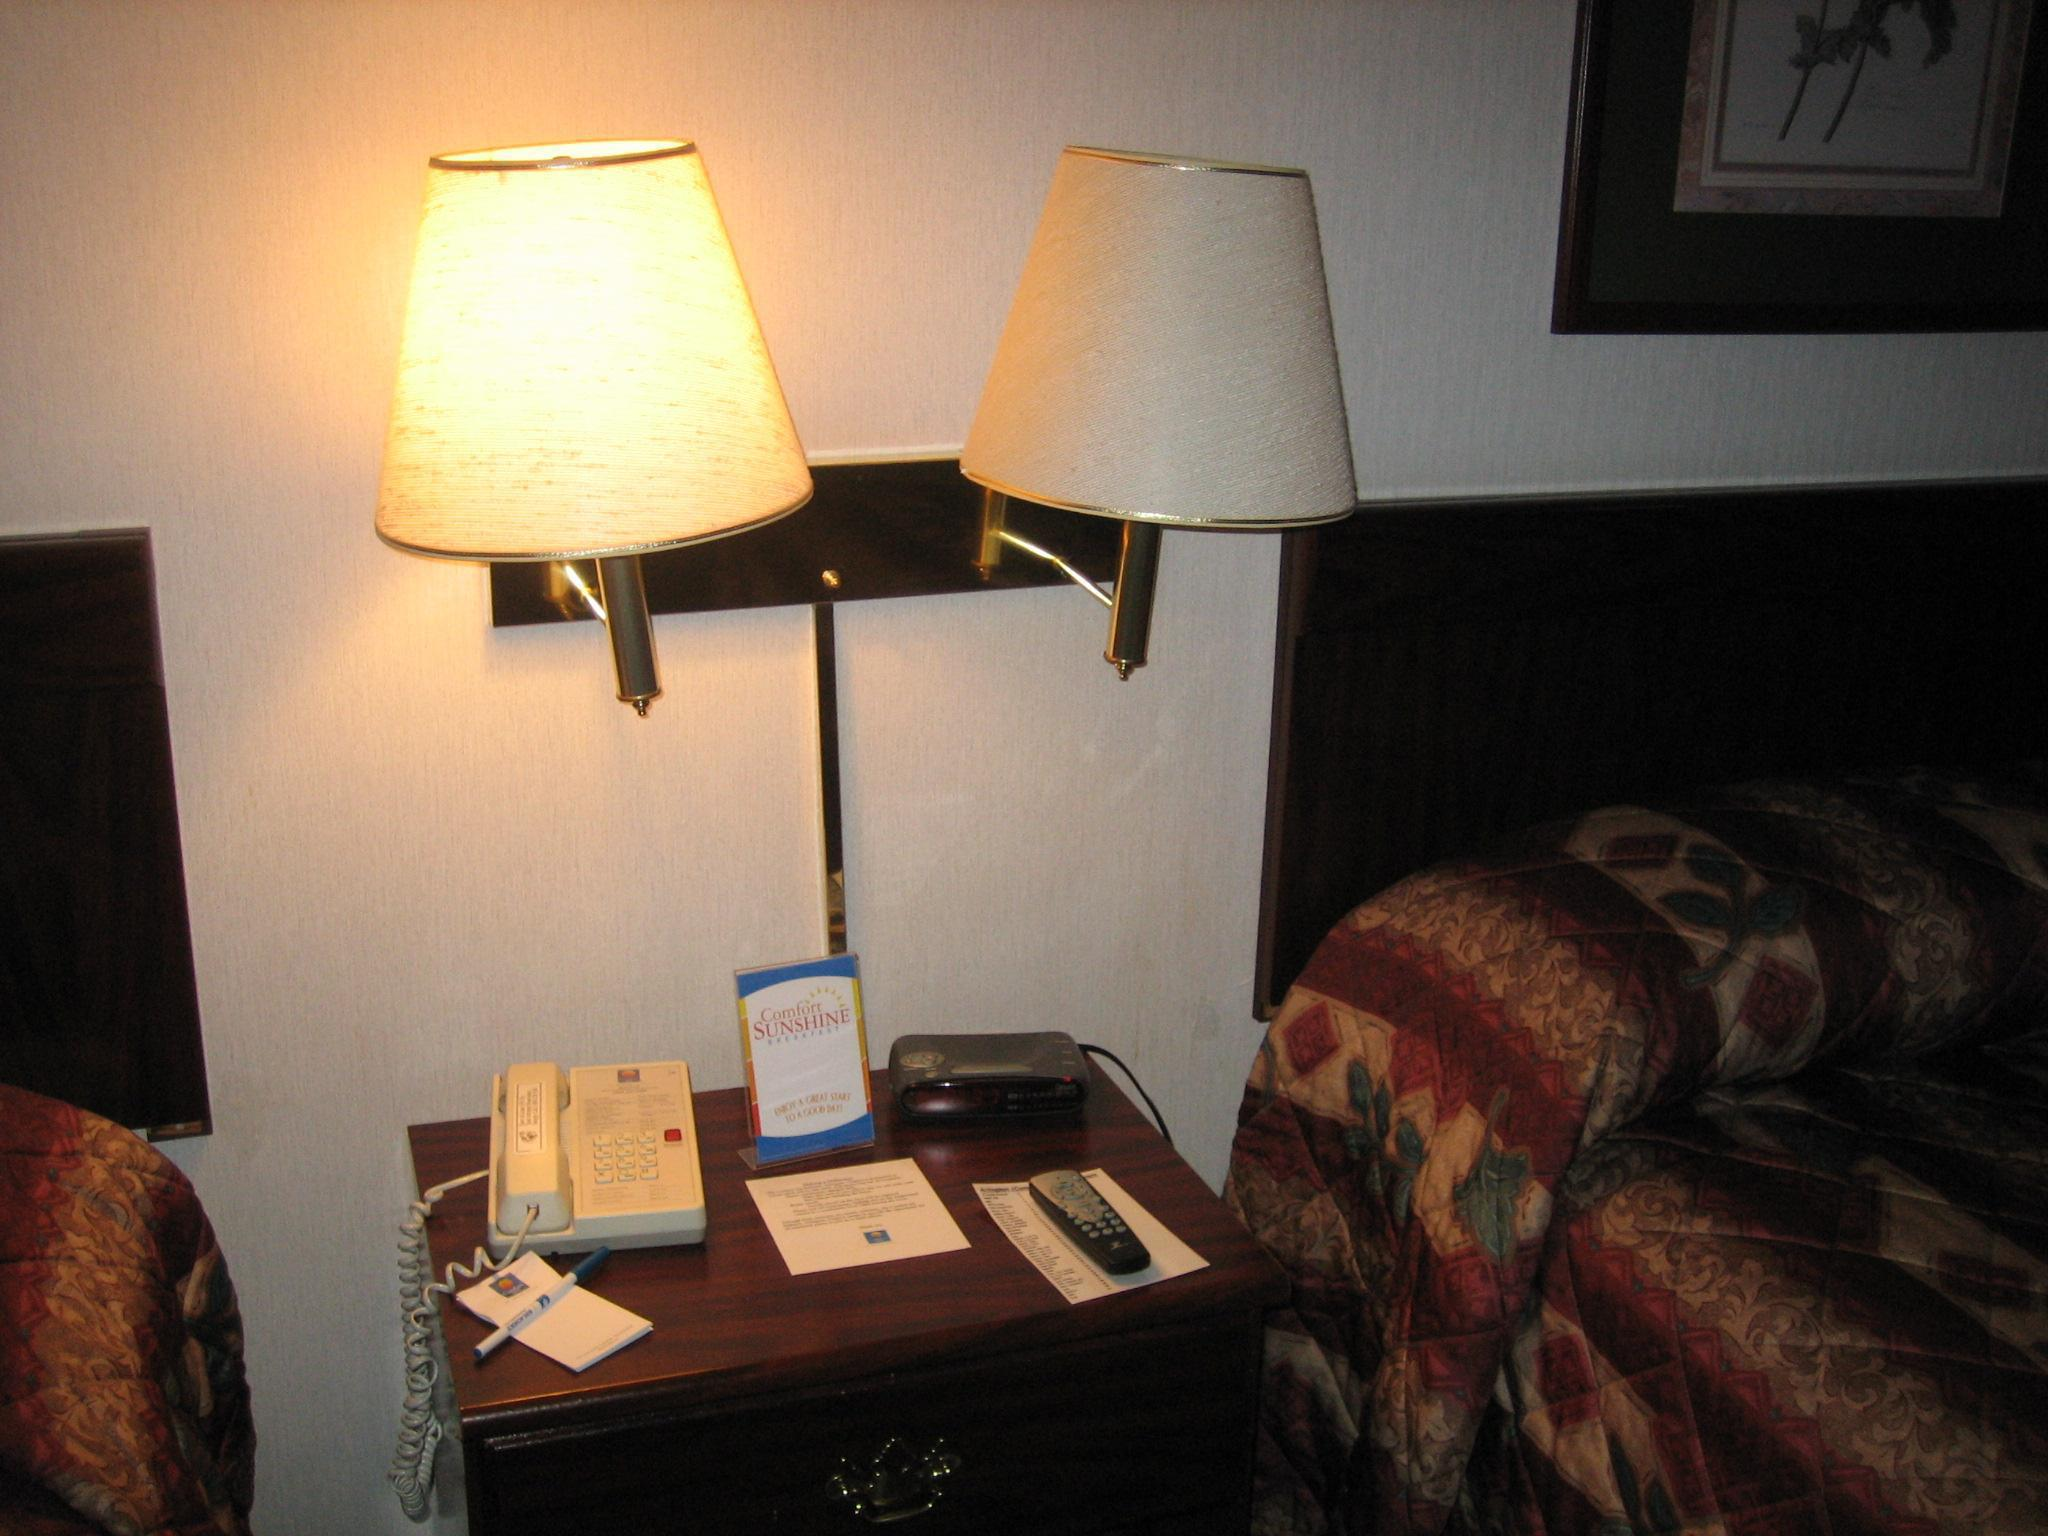Cama: (1297, 520, 2038, 1520), (15, 524, 168, 1517)
